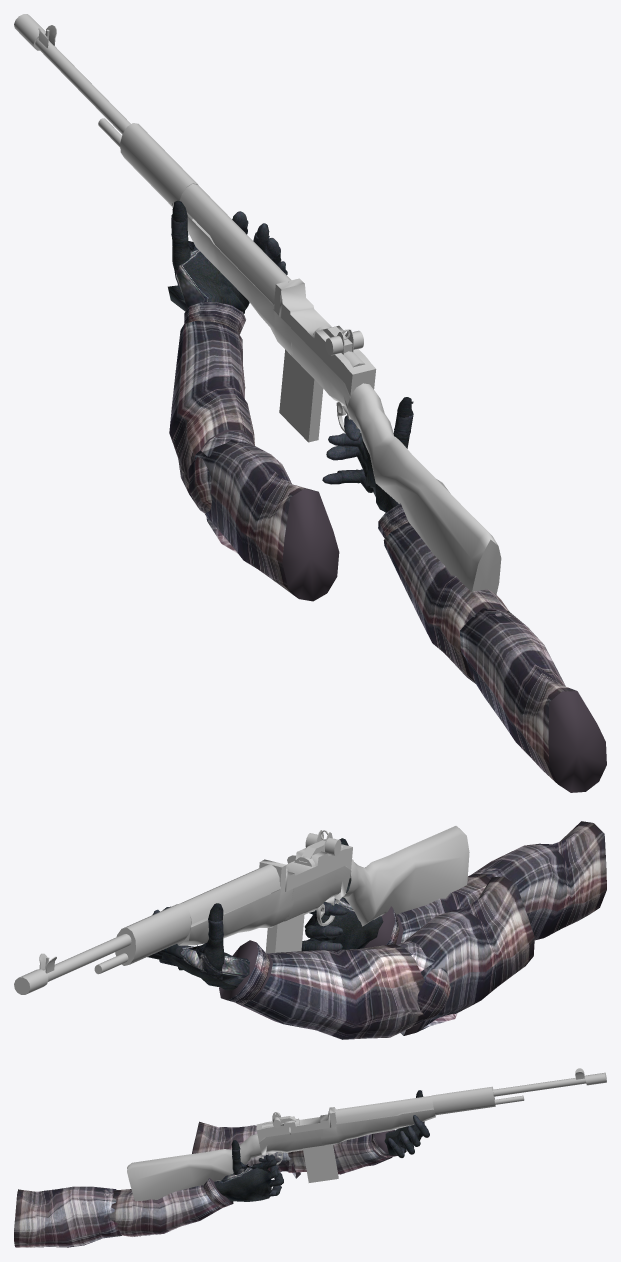
Rendered from m14_vfire.fbx.
3 renders of one model, top to bottom at view 1: azimuth 30°, elevation 25°; view 2: azimuth 150°, elevation 25°; view 3: azimuth 270°, elevation 25°, orthographic. The views are drawn at different scales.
Visible parts, largest first — view 1: larm, rupperarm, m14_stock, m14_grip, rforearm, m14_body, lhand, m14_clip, m14_barrels; view 2: larm, rupperarm, m14_grip, m14_stock, m14_body, lhand, rforearm, m14_barrels, rhand, m14_clip, m14_rearsight; view 3: rupperarm, m14_grip, rforearm, m14_stock, larm, m14_body, rhand, lhand, m14_clip, m14_barrels.
Boxes of the visible parts, x1=… form: larm: x1=169, y1=302, x2=339, y2=601; rupperarm: x1=460, y1=608, x2=606, y2=792; m14_stock: x1=347, y1=383, x2=501, y2=594; m14_grip: x1=120, y1=123, x2=292, y2=354; rforearm: x1=378, y1=503, x2=508, y2=683; m14_body: x1=273, y1=278, x2=376, y2=419; lhand: x1=168, y1=200, x2=287, y2=313; m14_clip: x1=279, y1=349, x2=323, y2=442; m14_barrels: x1=14, y1=14, x2=130, y2=147; larm: x1=219, y1=876, x2=534, y2=1039; rupperarm: x1=471, y1=821, x2=606, y2=940; m14_grip: x1=115, y1=864, x2=295, y2=965; m14_stock: x1=342, y1=826, x2=469, y2=926; m14_body: x1=259, y1=844, x2=352, y2=921; lhand: x1=147, y1=903, x2=249, y2=990; rforearm: x1=363, y1=874, x2=489, y2=948; m14_barrels: x1=14, y1=934, x2=131, y2=994; rhand: x1=304, y1=900, x2=383, y2=949; m14_clip: x1=265, y1=913, x2=304, y2=953; m14_rearsight: x1=299, y1=830, x2=341, y2=862; rupperarm: x1=14, y1=1186, x2=121, y2=1247; m14_grip: x1=320, y1=1086, x2=495, y2=1144; rforearm: x1=110, y1=1178, x2=233, y2=1236; m14_stock: x1=127, y1=1134, x2=261, y2=1201; larm: x1=192, y1=1121, x2=397, y2=1178; m14_body: x1=256, y1=1107, x2=337, y2=1155; rhand: x1=214, y1=1165, x2=271, y2=1201; lhand: x1=382, y1=1090, x2=429, y2=1157; m14_clip: x1=303, y1=1144, x2=338, y2=1182; m14_barrels: x1=493, y1=1072, x2=606, y2=1104.
Size of the model in its own units: 11.13 by 17.9 by 53.02.
